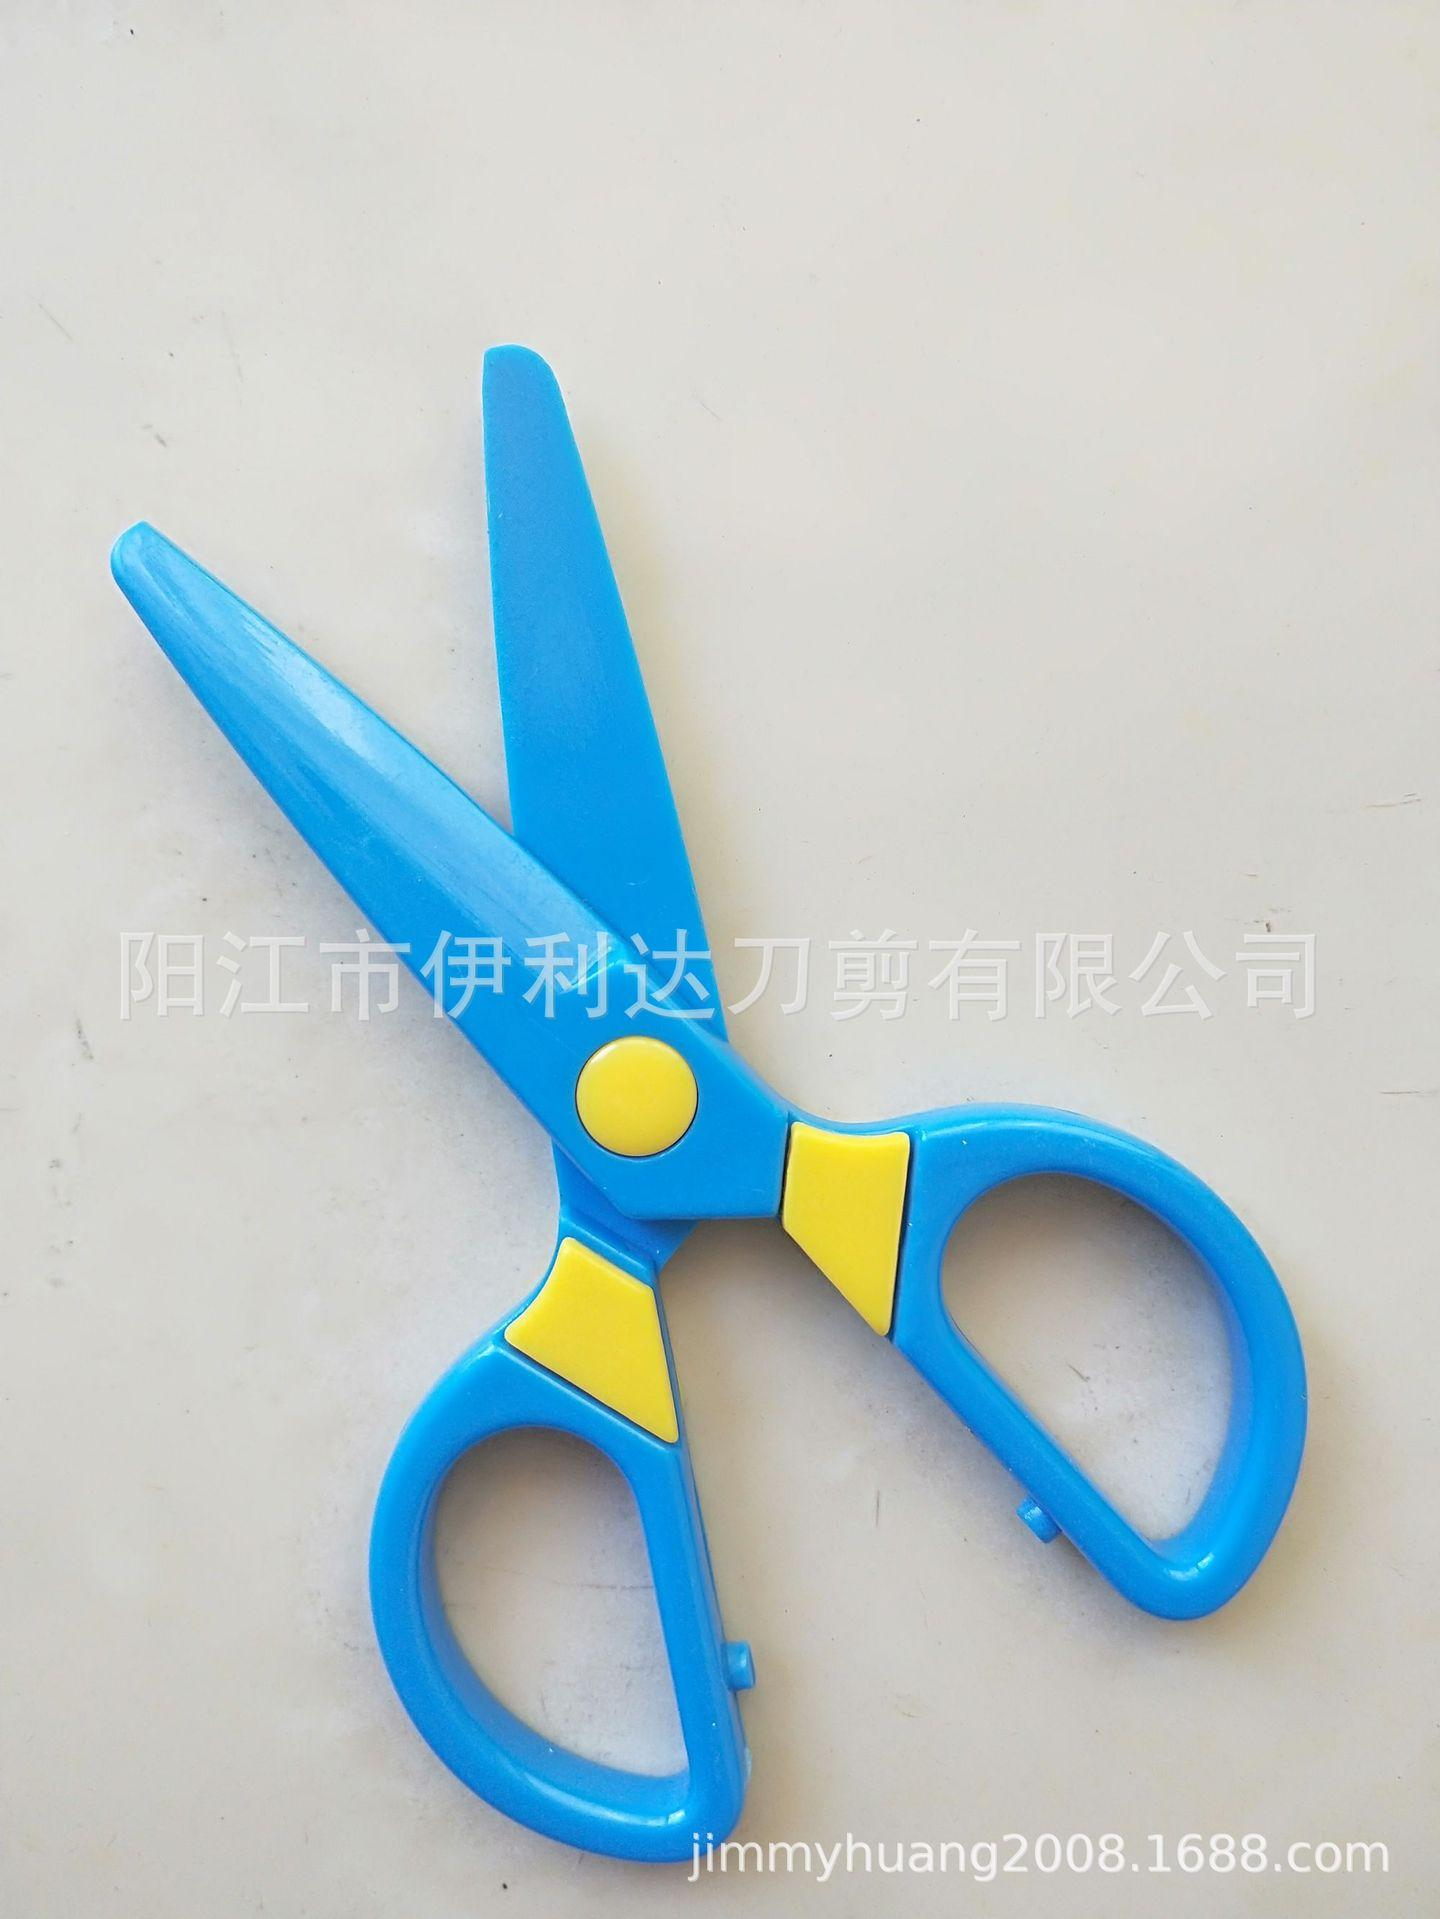scissor: (154, 404, 1317, 1763)
